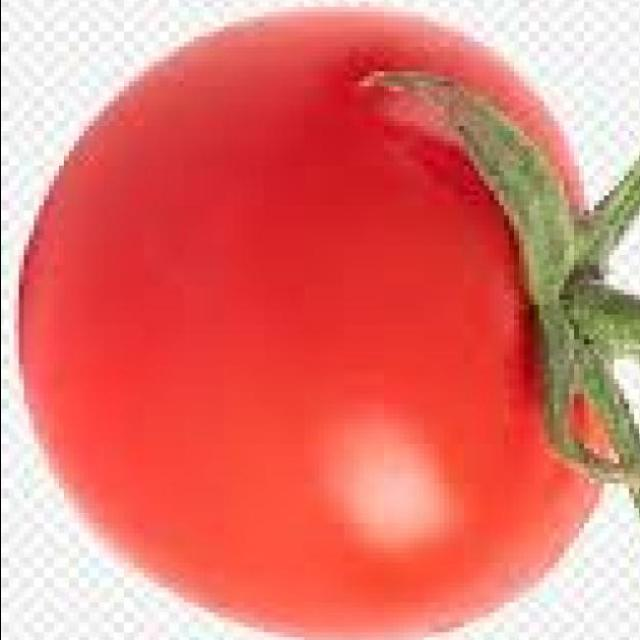Healthy: (31, 1, 620, 640)
